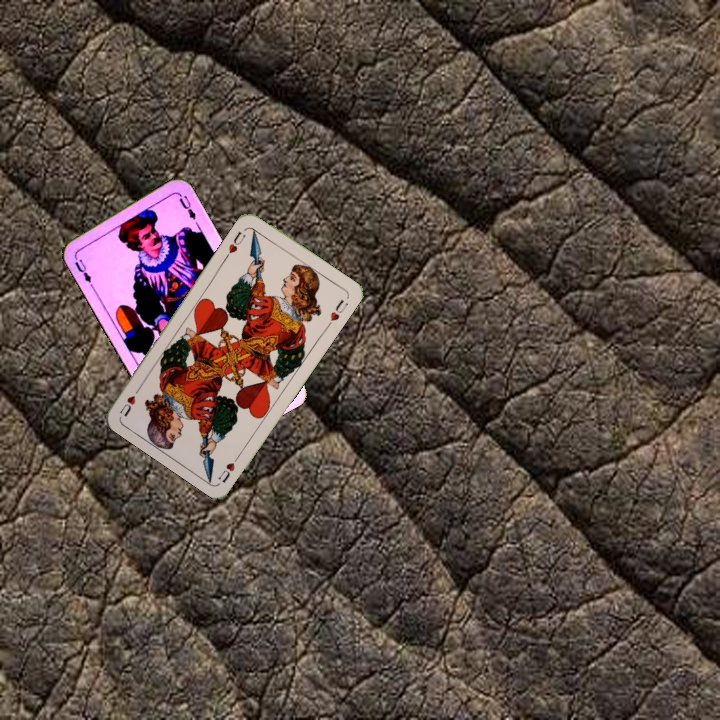EU: (70, 255, 95, 288)
HU: (214, 449, 244, 485), (222, 227, 248, 260)
